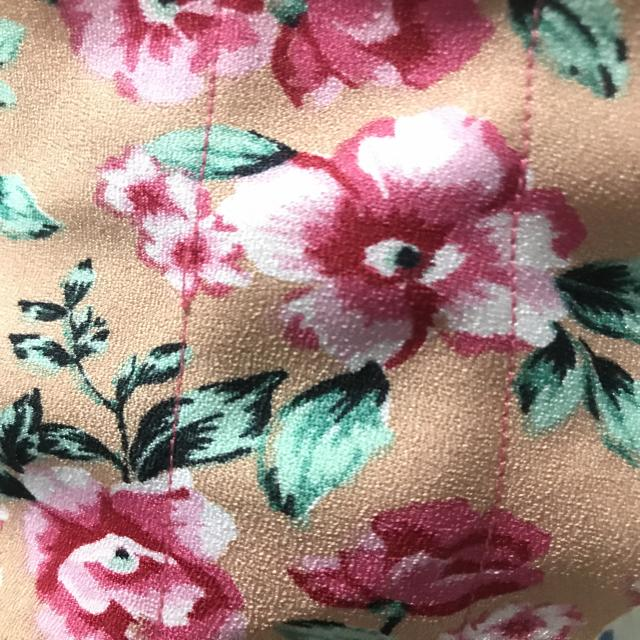skip: (163, 220, 216, 326)
